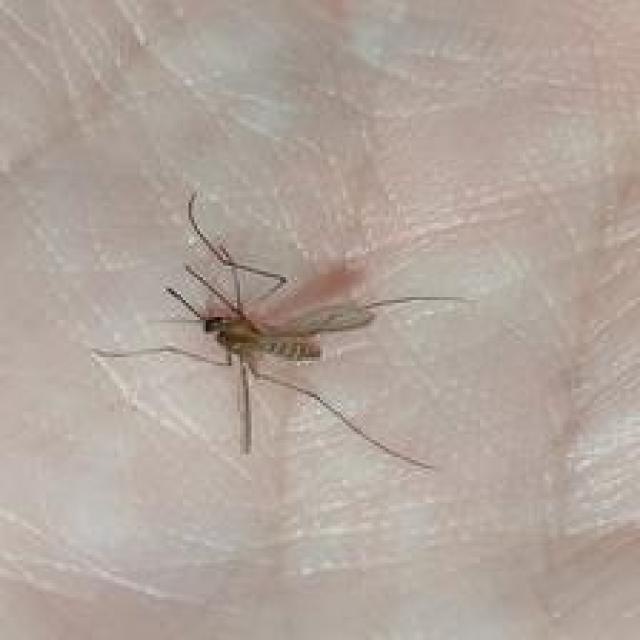Culex: (90, 190, 473, 473)
